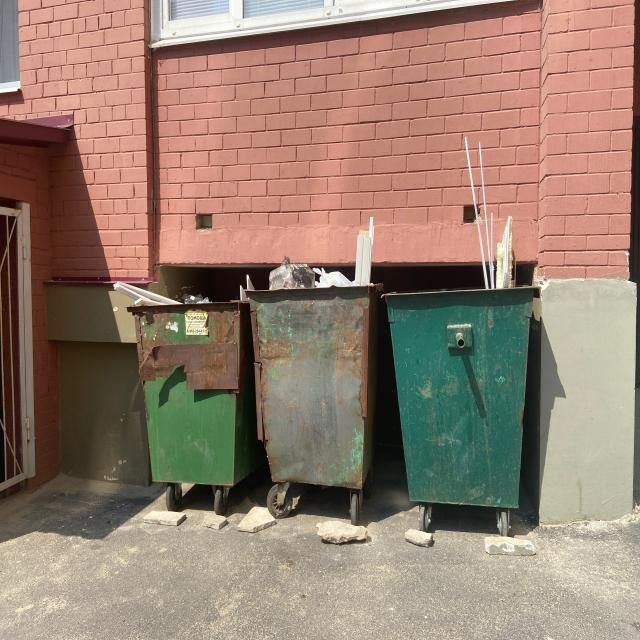bin: (383, 287, 529, 533), (250, 290, 372, 517), (125, 296, 245, 516)
